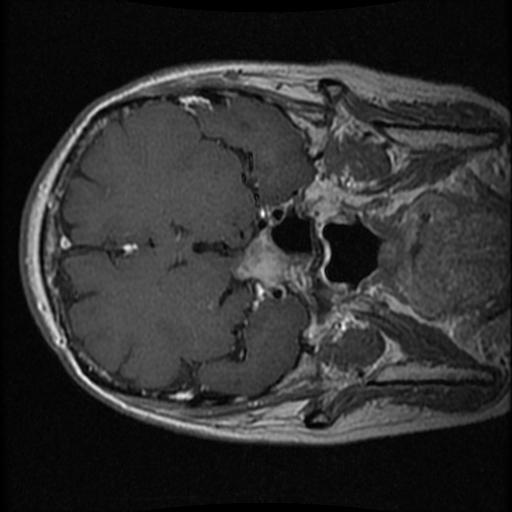pituitary tumour: (235, 226, 308, 291)
